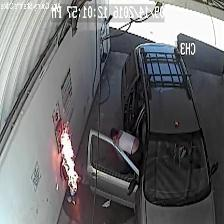fire: (55, 124, 83, 200)
